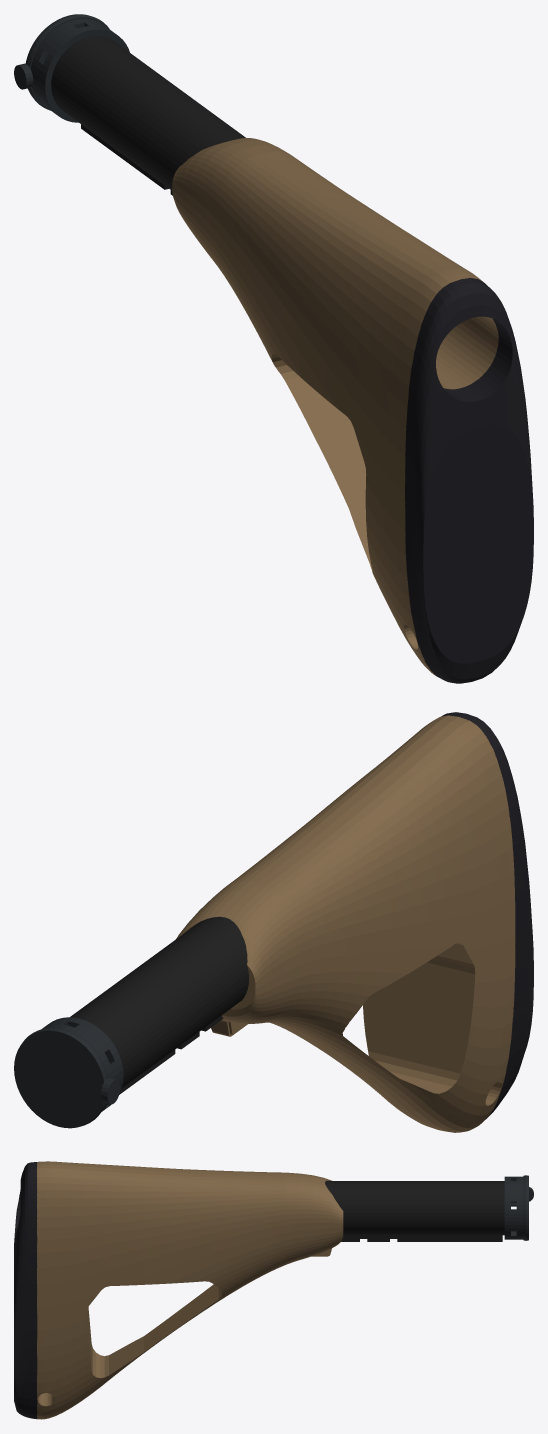
Rendered from coronha_retratil_ar_tan.glb.
3 renders of one model, top to bottom at view 1: azimuth 30°, elevation 25°; view 2: azimuth 150°, elevation 25°; view 3: azimuth 270°, elevation 25°, orthographic. The views are drawn at different scales.
Parts seen in each view (by area): view 1: coronha_retratil_ar_tan_soleira_polimero_tan, coronha_retratil_ar_tan_soleira_borracha, coronha_retratil_ar_tan_aluminio_preto, coronha_retratil_ar_tan_aco_oxidado; view 2: coronha_retratil_ar_tan_soleira_polimero_tan, coronha_retratil_ar_tan_aluminio_preto, coronha_retratil_ar_tan_aco_oxidado, coronha_retratil_ar_tan_soleira_borracha; view 3: coronha_retratil_ar_tan_soleira_polimero_tan, coronha_retratil_ar_tan_aluminio_preto, coronha_retratil_ar_tan_soleira_borracha, coronha_retratil_ar_tan_aco_oxidado.
Part boxes in pixels (box(x1,y1,x2,y2)): coronha_retratil_ar_tan_soleira_polimero_tan: box(172, 138, 498, 675); coronha_retratil_ar_tan_soleira_borracha: box(405, 277, 533, 683); coronha_retratil_ar_tan_aluminio_preto: box(51, 36, 245, 195); coronha_retratil_ar_tan_aco_oxidado: box(14, 14, 129, 122); coronha_retratil_ar_tan_soleira_polimero_tan: box(176, 715, 515, 1132); coronha_retratil_ar_tan_aluminio_preto: box(70, 916, 248, 1094); coronha_retratil_ar_tan_aco_oxidado: box(14, 1017, 123, 1128); coronha_retratil_ar_tan_soleira_borracha: box(439, 712, 533, 1118); coronha_retratil_ar_tan_soleira_polimero_tan: box(37, 1161, 343, 1419); coronha_retratil_ar_tan_aluminio_preto: box(325, 1181, 504, 1241); coronha_retratil_ar_tan_soleira_borracha: box(14, 1162, 37, 1419); coronha_retratil_ar_tan_aco_oxidado: box(504, 1175, 533, 1240).
Bounding box in the file's own units: 0.0428 × 0.1482 × 0.2769.
